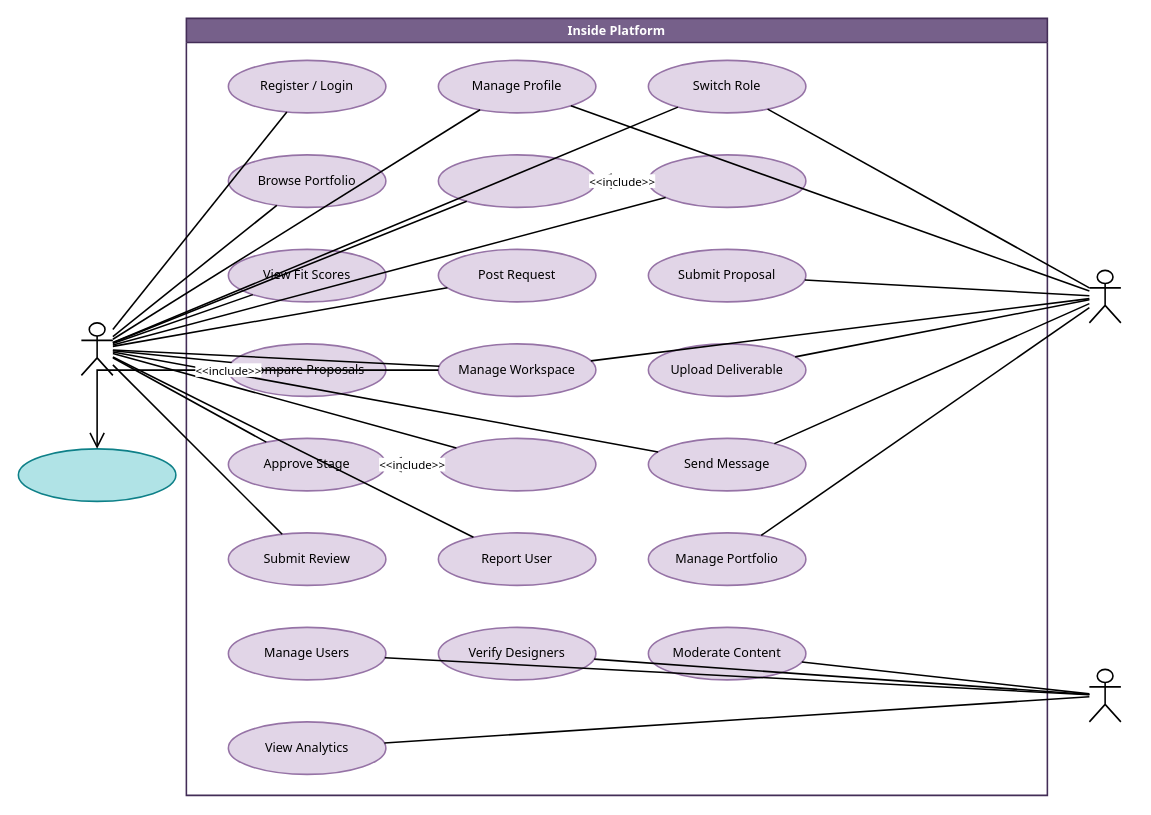
Image size: 1151x815. Some labels were removed from this diagram. Here are the shapes that lost their labels. From the top down, the centre of each, then its label:
(516,181): Create Moodboard
(726,181): Generate Brief
(1104,296): Designer
(96,349): Client
(96,475): Send Notification
(516,464): Make Payment
(1104,695): Admin
